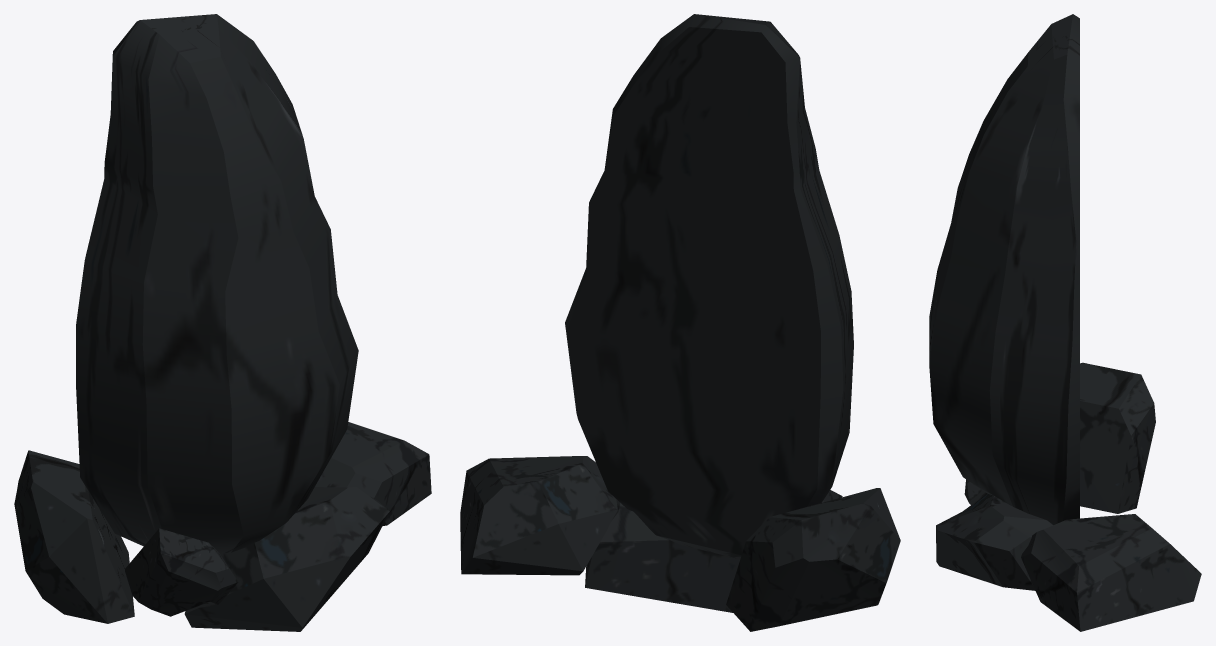
The model's file is Rock Bridge.fbx.
3 views of the same model, side by side, from view 1: azimuth 30°, elevation 25°; view 2: azimuth 150°, elevation 25°; view 3: azimuth 270°, elevation 25° (orthographic). The views are drawn at different scales.
Visible parts, largest first — view 1: Rock_Slab, Rubble; view 2: Rock_Slab, Rubble; view 3: Rock_Slab, Rubble.
Boxes of the visible parts, <box> form: Rock_Slab: <box>76,14,358,552</box>; Rubble: <box>14,422,431,631</box>; Rock_Slab: <box>565,14,853,559</box>; Rubble: <box>460,456,900,631</box>; Rock_Slab: <box>929,14,1079,524</box>; Rubble: <box>936,362,1201,631</box>.
Size of the model in its own units: 3.23 by 4.51 by 2.07.
